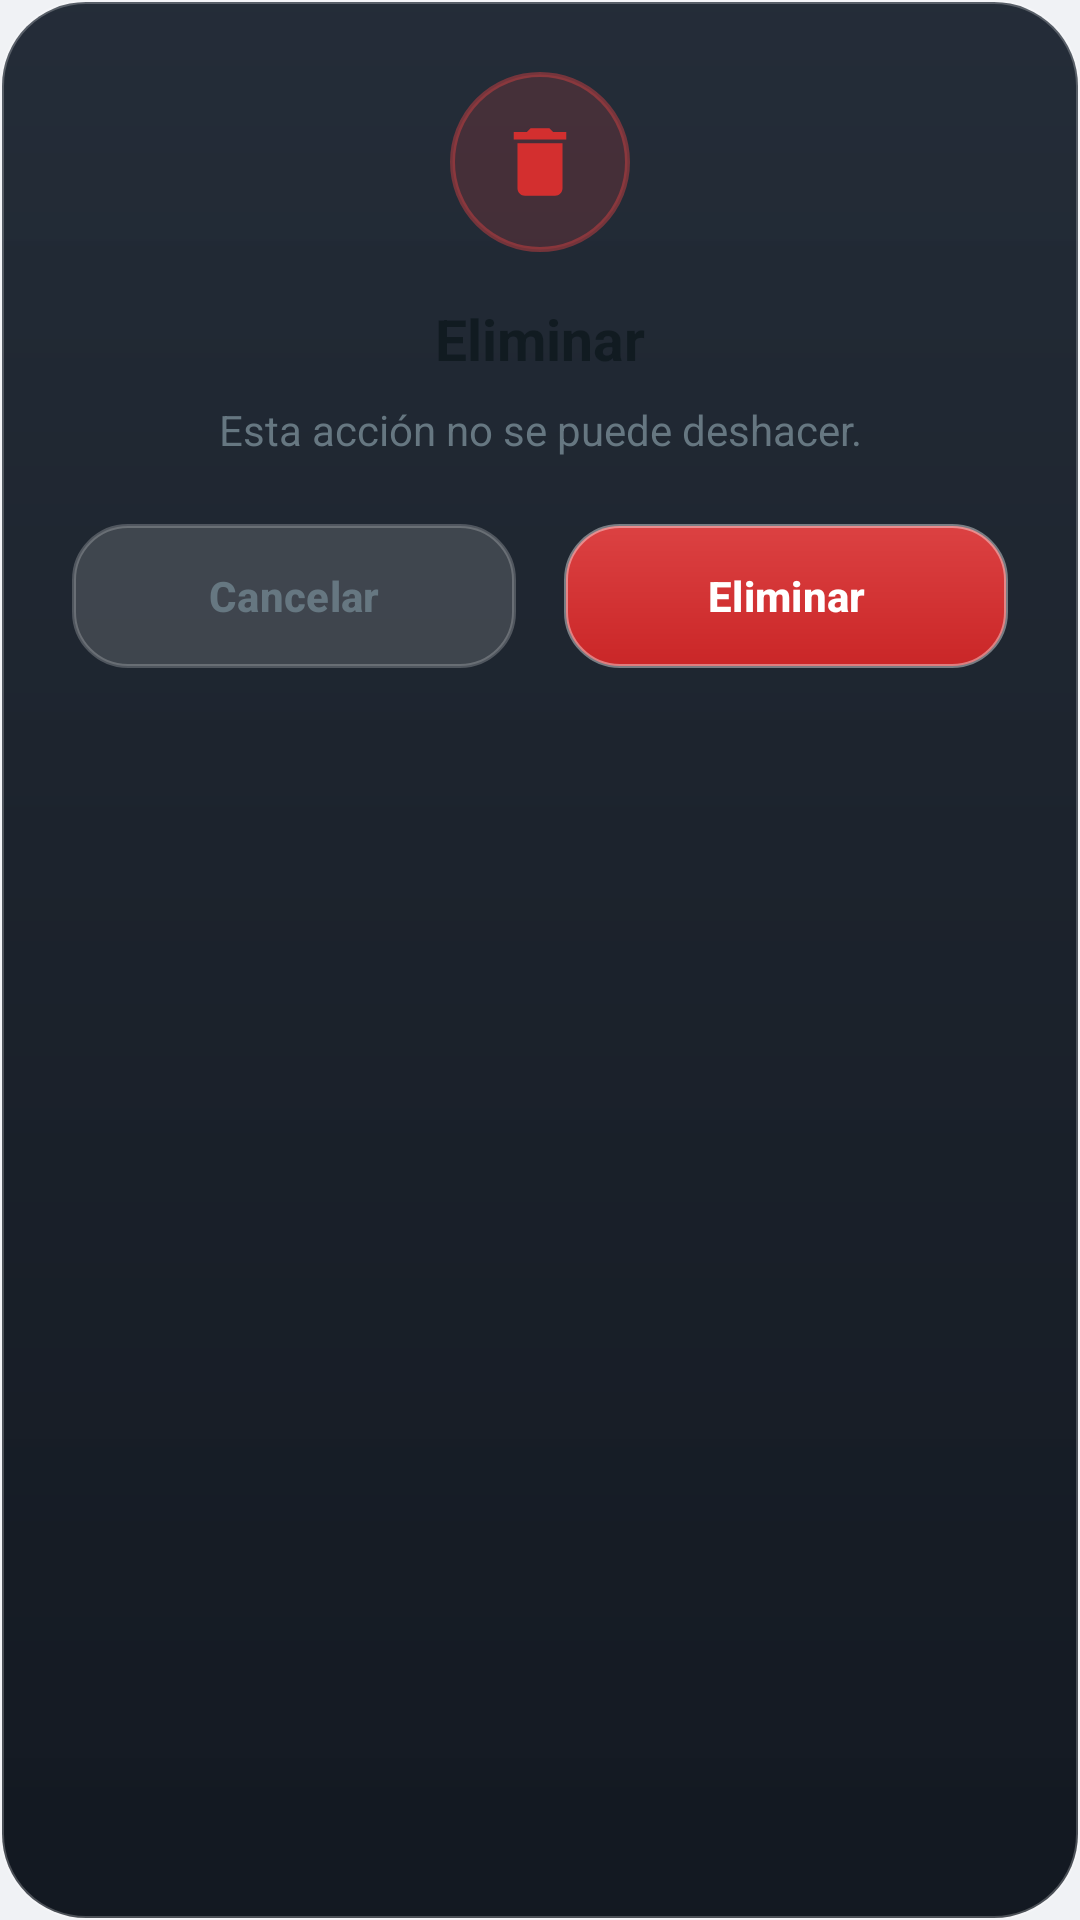

Named icons in this screenshot (1080x1920) and their centers, (x=x, y=y):
delete: (x=540, y=162)
